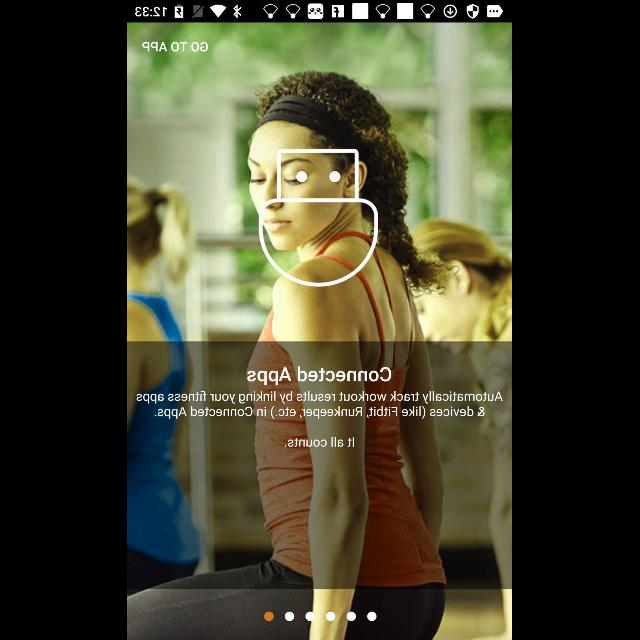backgroundimage: (128, 24, 512, 640)
image: (259, 149, 379, 287)
pageindicator: (264, 611, 378, 621)
text: (136, 390, 504, 420), (248, 366, 392, 386), (285, 437, 355, 448), (142, 42, 208, 52)
uppertaskbar: (128, 1, 512, 23)
